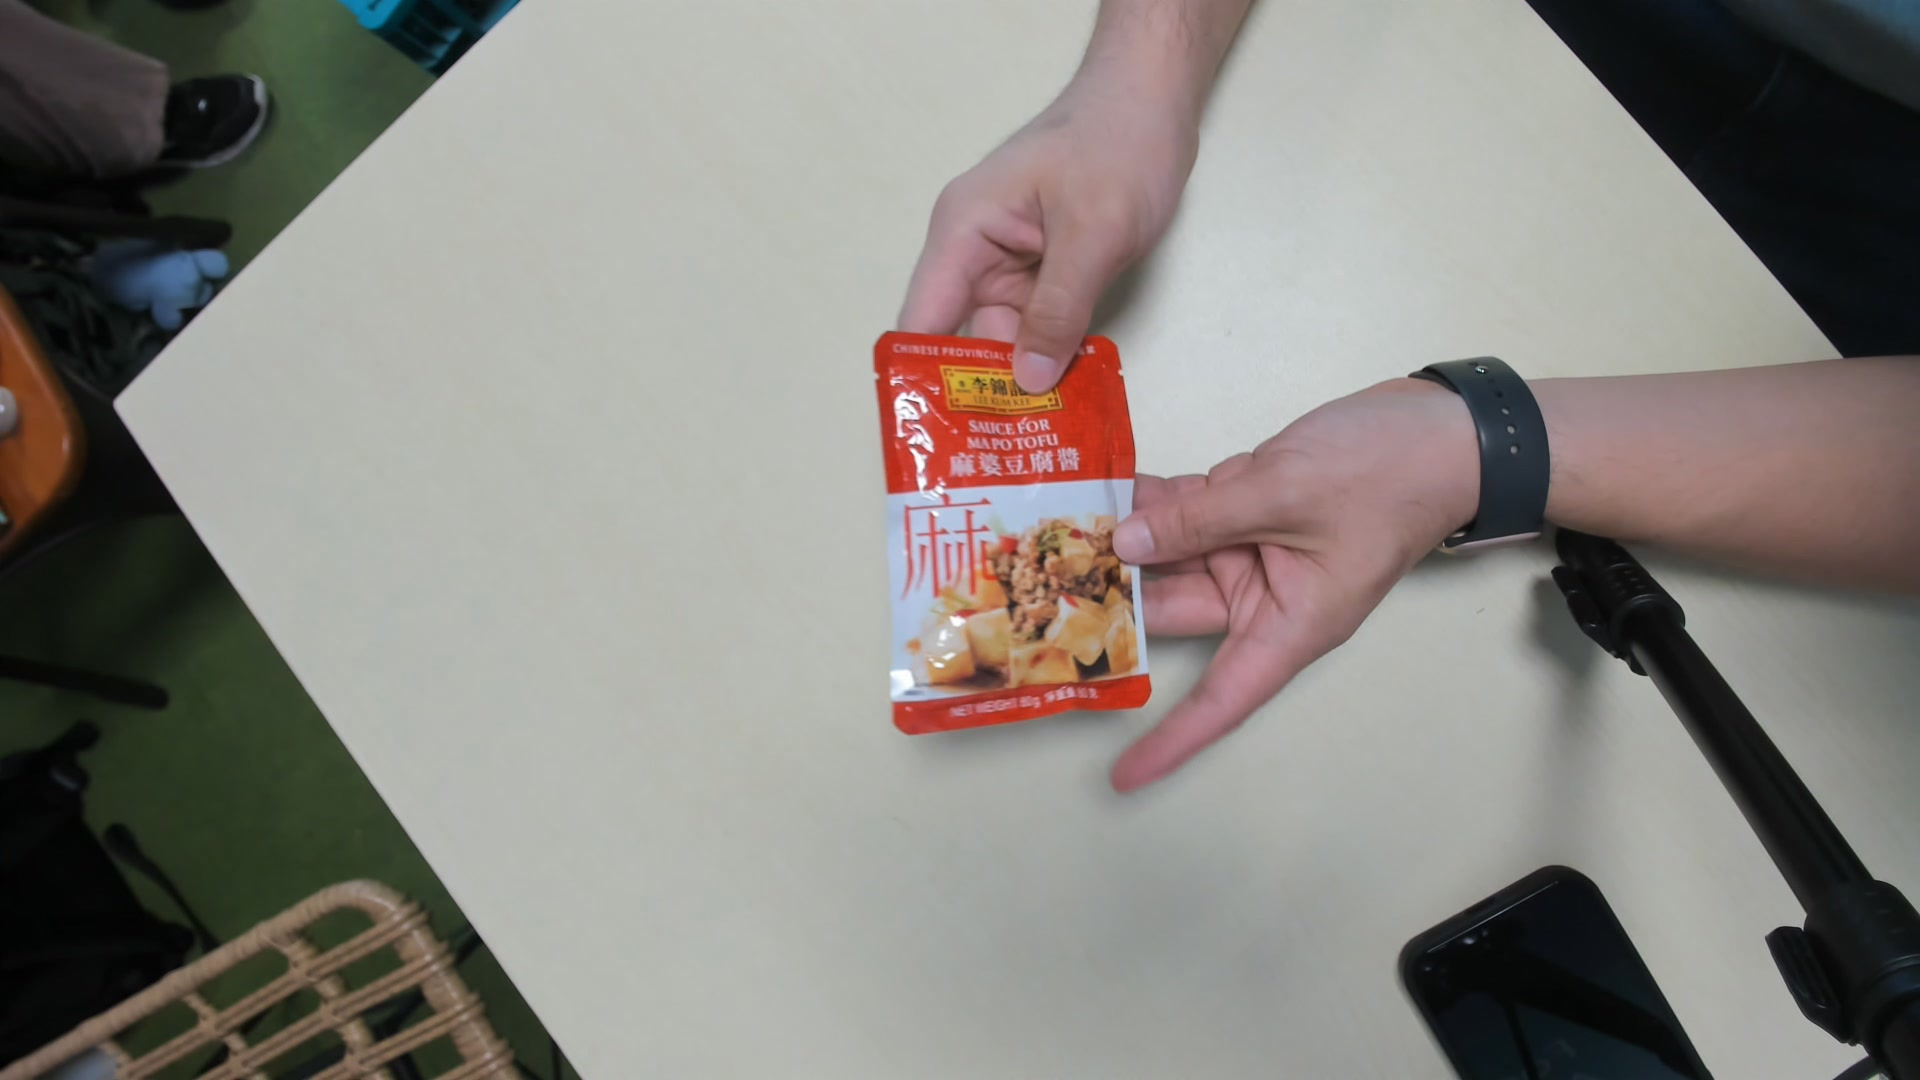OtherSauceDressing_0-99g_NonHalal_NonHealthy: (872, 328, 1153, 733)
